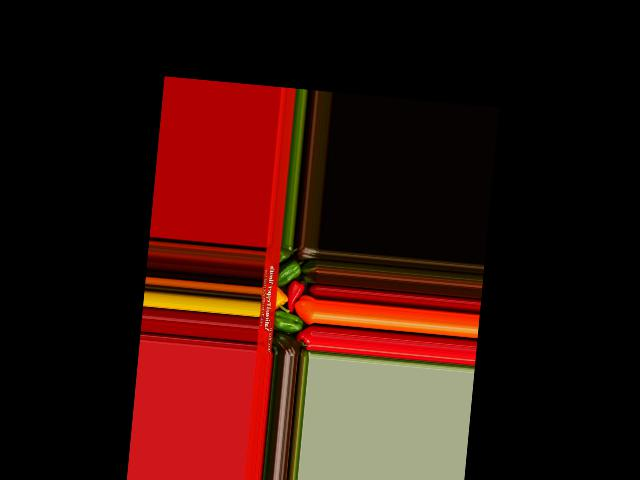bell_pepper: (270, 332, 301, 356)
